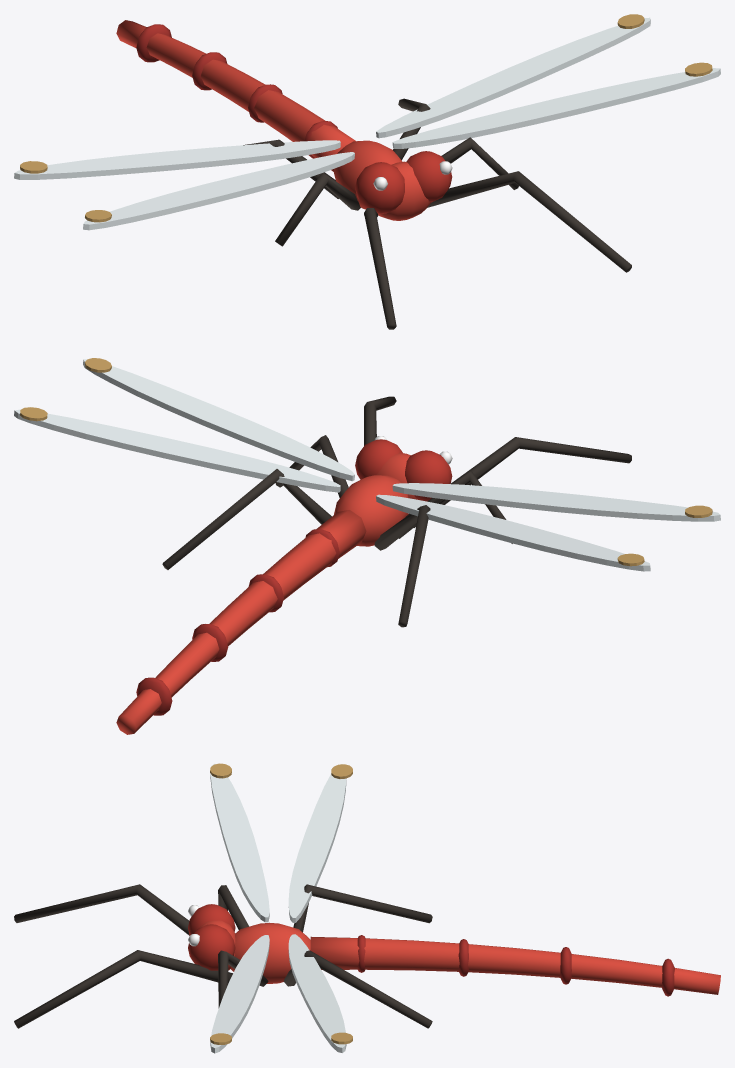
The model's file is bug-red-dragonfly.glb.
3 views of the same model, one above another, from view 1: azimuth 30°, elevation 25°; view 2: azimuth 150°, elevation 25°; view 3: azimuth 270°, elevation 25° (orthographic). The views are drawn at different scales.
Parts seen in each view (by area): view 1: bug; view 2: bug; view 3: bug.
Boxes of the visible parts, x1=… form: bug: x1=14, y1=14, x2=720, y2=329; bug: x1=14, y1=358, x2=720, y2=734; bug: x1=14, y1=763, x2=720, y2=1053.
Size of the model in its own units: 0.3563 by 0.0536 by 0.3736.
